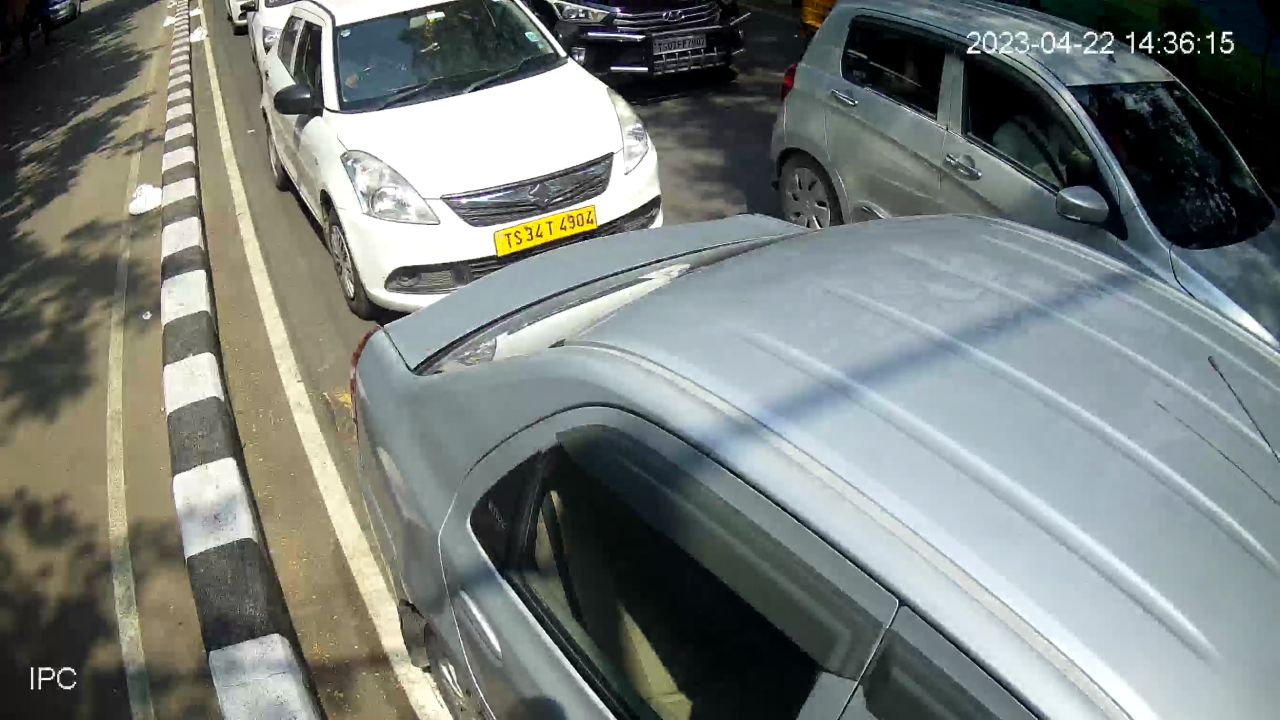license_plate: (493, 200, 604, 266), (649, 31, 712, 59)
